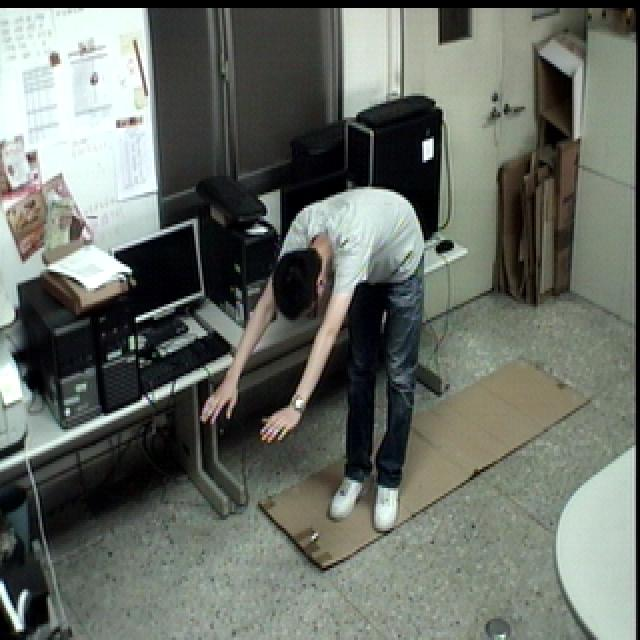bend: (194, 180, 442, 540)
